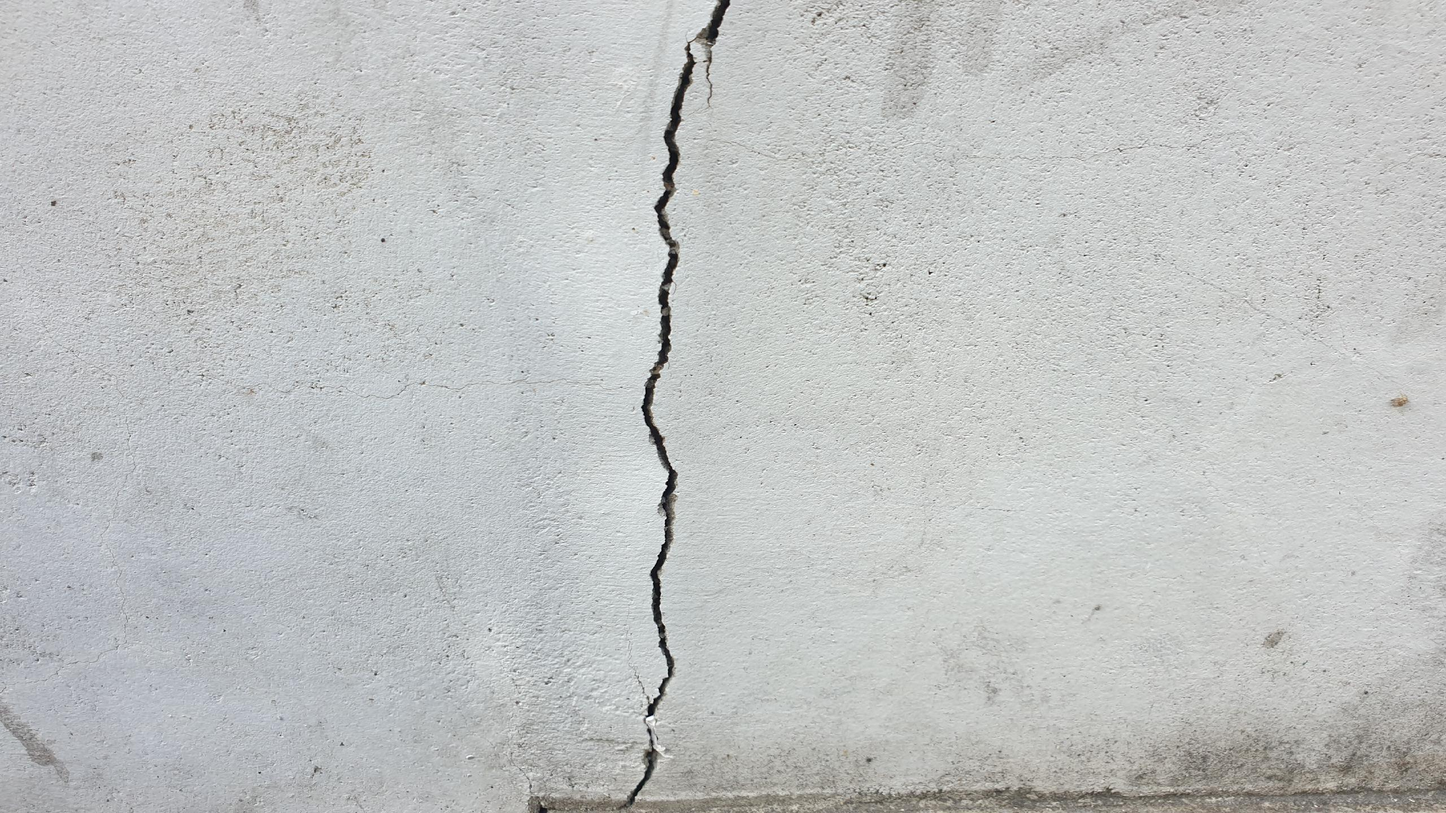crack: (616, 2, 730, 810)
